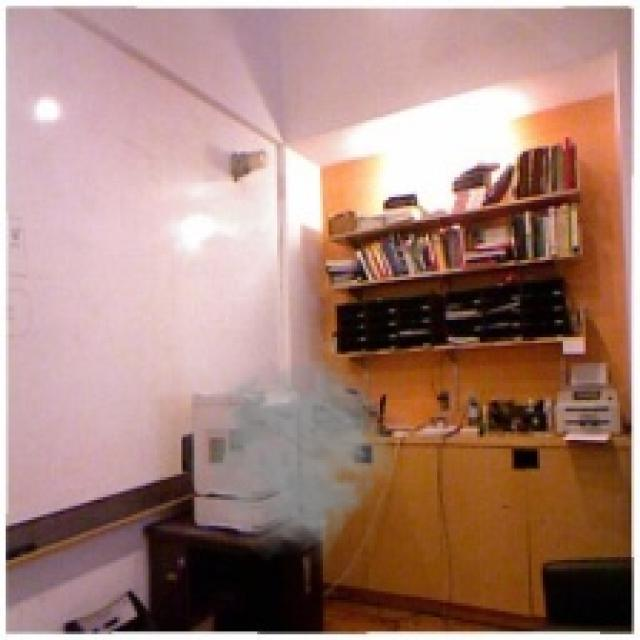Smoke: (186, 354, 394, 566)
